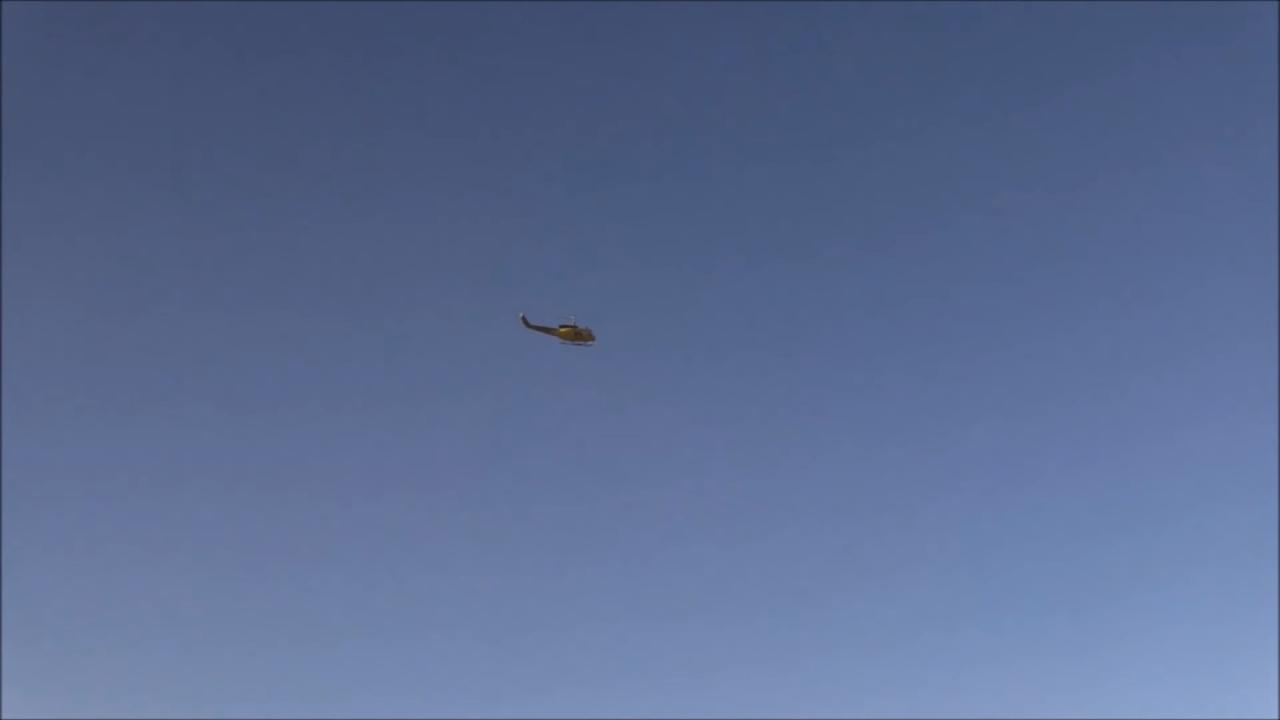Helicopter: (510, 303, 608, 359)
